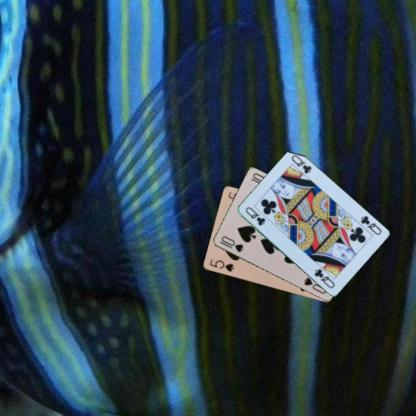10s: (217, 233, 245, 254)
5s: (207, 256, 235, 274)
Qc: (243, 204, 266, 227), (358, 214, 382, 236)
